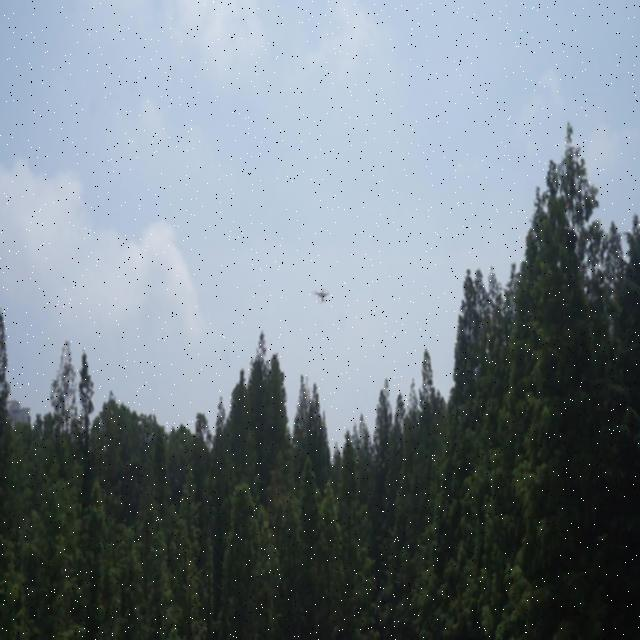UAV: (312, 289, 329, 304)
